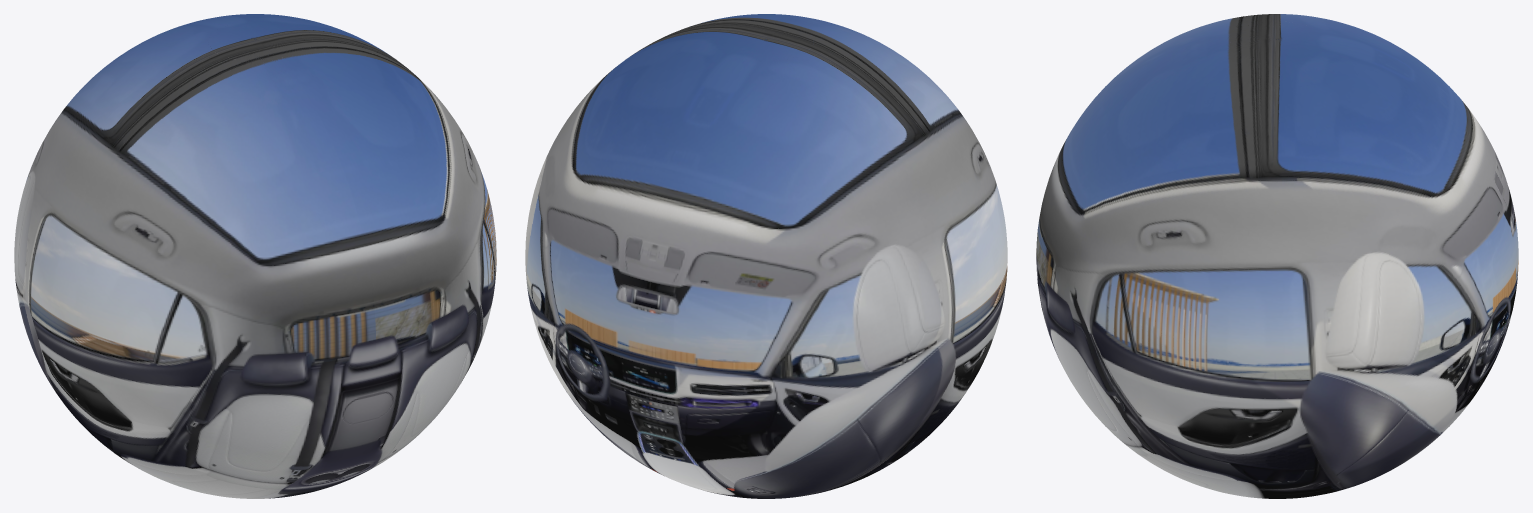
File: pano.glb
3 renders of one model, left to right at view 1: azimuth 30°, elevation 25°; view 2: azimuth 150°, elevation 25°; view 3: azimuth 270°, elevation 25°, orthographic.
Visible parts, largest first — view 1: Sphere; view 2: Sphere; view 3: Sphere.
Boxes of the visible parts, bbox=[...] form: Sphere: bbox=[14, 14, 496, 498]; Sphere: bbox=[525, 14, 1007, 498]; Sphere: bbox=[1036, 14, 1518, 498].
Size of the model in its own units: 430 by 427 by 430.
Materials: 1 (1 with a texture image).
